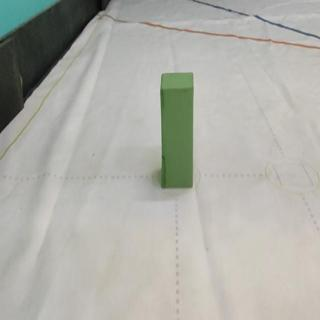greenbox: (157, 70, 197, 189)
